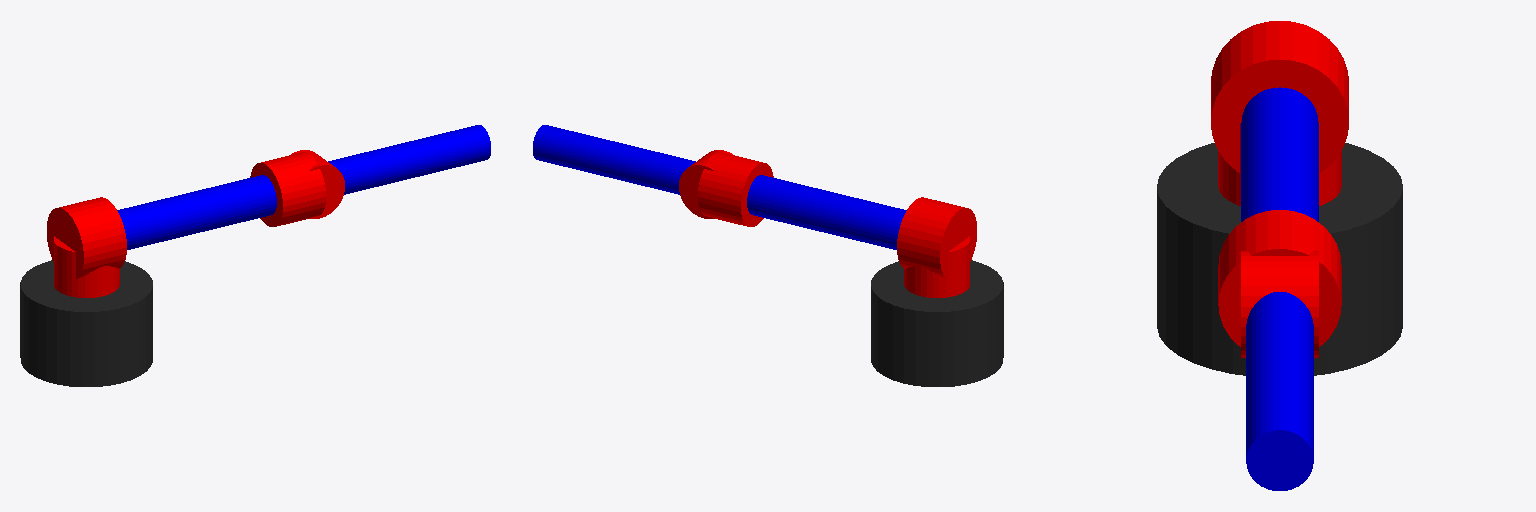
The robot description file, URDF, robot "mechelangelo_arm":
<?xml version="1.0"?>
<robot name="mechelangelo_arm">

  <!-- =========================
       MATERIALS
       ========================= -->
  <material name="red">
    <color rgba="1 0 0 1"/>
  </material>

  <material name="blue">
    <color rgba="0 0 1 1"/>
  </material>

  <material name="dark_grey">
    <color rgba="0.2 0.2 0.2 1"/>
  </material>

  <!-- =========================
       ROOT LINK
       ========================= -->
  <link name="base_footprint"/>

  <!-- =========================
       BASE
       ========================= -->
  <link name="base_link">
    <visual>
      <origin xyz="0 0 0" rpy="0 0 0"/>
      <geometry>
        <cylinder radius="0.08" length="0.10"/>
      </geometry>
      <material name="dark_grey"/>
    </visual>

    <collision>
      <origin xyz="0 0 0" rpy="0 0 0"/>
      <geometry>
        <cylinder radius="0.08" length="0.10"/>
      </geometry>
    </collision>

    <inertial>
      <origin xyz="0 0 0" rpy="0 0 0"/>
      <mass value="2.0"/>
      <inertia
        ixx="0.01" ixy="0.0" ixz="0.0"
        iyy="0.01" iyz="0.0"
        izz="0.01"/>
    </inertial>
  </link>

  <joint name="base_fixed_joint" type="fixed">
    <parent link="base_footprint"/>
    <child link="base_link"/>
    <origin xyz="0 0 0.05" rpy="0 0 0"/>
  </joint>

  <!-- =========================
       SHOULDER JOINT 1
       ========================= -->
  <link name="joint1_link">
    <visual>
      <origin xyz="0 0 0" rpy="0 0 0"/>
      <geometry>
        <cylinder radius="0.04" length="0.06"/>
      </geometry>
      <material name="red"/>
    </visual>

    <collision>
      <origin xyz="0 0 0" rpy="0 0 0"/>
      <geometry>
        <cylinder radius="0.04" length="0.06"/>
      </geometry>
    </collision>

    <inertial>
      <origin xyz="0 0 0" rpy="0 0 0"/>
      <mass value="0.30"/>
      <inertia
        ixx="0.0005" ixy="0.0" ixz="0.0"
        iyy="0.0005" iyz="0.0"
        izz="0.0003"/>
    </inertial>
  </link>

  <joint name="joint1" type="revolute">
    <parent link="base_link"/>
    <child link="joint1_link"/>
    <origin xyz="0 0 0.08" rpy="0 0 0"/>
    <axis xyz="0 0 1"/>
    <limit lower="-3.1416" upper="3.1416" effort="20" velocity="1.5"/>
    <dynamics damping="0.1"/>
  </joint>

  <!-- =========================
       SHOULDER JOINT 2
       ========================= -->
  <link name="joint2_link">
    <visual>
      <origin xyz="0 0 0" rpy="0 1.5708 0"/>
      <geometry>
        <cylinder radius="0.045" length="0.06"/>
      </geometry>
      <material name="red"/>
    </visual>

    <collision>
      <origin xyz="0 0 0" rpy="0 1.5708 0"/>
      <geometry>
        <cylinder radius="0.045" length="0.06"/>
      </geometry>
    </collision>

    <inertial>
      <origin xyz="0 0 0" rpy="0 0 0"/>
      <mass value="0.25"/>
      <inertia
        ixx="0.0004" ixy="0.0" ixz="0.0"
        iyy="0.0004" iyz="0.0"
        izz="0.0002"/>
    </inertial>
  </link>

  <joint name="joint2" type="revolute">
    <parent link="joint1_link"/>
    <child link="joint2_link"/>
    <origin xyz="0 0 0.03" rpy="0 0 0"/>
    <axis xyz="0 1 0"/>
    <limit lower="-3.1416" upper="0" effort="15" velocity="1.5"/>
    <dynamics damping="0.1"/>
  </joint>

  <!-- =========================
       LINK 1
       ========================= -->
  <link name="link1">
    <visual>
      <origin xyz="0 0 0" rpy="0 1.5708 0"/>
      <geometry>
        <cylinder radius="0.025" length="0.28"/>
      </geometry>
      <material name="blue"/>
    </visual>

    <collision>
      <origin xyz="0 0 0" rpy="0 1.5708 0"/>
      <geometry>
        <cylinder radius="0.025" length="0.28"/>
      </geometry>
    </collision>

    <inertial>
      <origin xyz="0 0 0" rpy="0 0 0"/>
      <mass value="0.35"/>
      <inertia
        ixx="0.0020" ixy="0.0" ixz="0.0"
        iyy="0.0020" iyz="0.0"
        izz="0.0002"/>
    </inertial>
  </link>

  <joint name="joint2_to_link1" type="fixed">
    <parent link="joint2_link"/>
    <child link="link1"/>
    <origin xyz="0.14 0 0" rpy="0 0 0"/>
  </joint>

  <!-- =========================
       ELBOW JOINT 3
       ========================= -->
  <link name="joint3_link">
    <visual>
      <origin xyz="0 0 0" rpy="0 1.5708 0"/>
      <geometry>
        <cylinder radius="0.04" length="0.06"/>
      </geometry>
      <material name="red"/>
    </visual>

    <collision>
      <origin xyz="0 0 0" rpy="0 1.5708 0"/>
      <geometry>
        <cylinder radius="0.04" length="0.06"/>
      </geometry>
    </collision>

    <inertial>
      <origin xyz="0 0 0" rpy="0 0 0"/>
      <mass value="0.20"/>
      <inertia
        ixx="0.0003" ixy="0.0" ixz="0.0"
        iyy="0.0003" iyz="0.0"
        izz="0.00015"/>
    </inertial>
  </link>

  <joint name="joint3" type="revolute">
    <parent link="link1"/>
    <child link="joint3_link"/>
    <origin xyz="0.14 0 0" rpy="0 0 0"/>
    <axis xyz="1 0 0"/>
    <limit lower="-3.1416" upper="3.1416" effort="10" velocity="1.5"/>
    <dynamics damping="0.1"/>
  </joint>

  <!-- =========================
       ELBOW JOINT 4
       ========================= -->
  <link name="joint4_link">
    <visual>
      <origin xyz="0 0 0" rpy="1.5708 0 0"/>
      <geometry>
        <cylinder radius="0.035" length="0.05"/>
      </geometry>
      <material name="red"/>
    </visual>

    <collision>
      <origin xyz="0 0 0" rpy="1.5708 0 0"/>
      <geometry>
        <cylinder radius="0.035" length="0.05"/>
      </geometry>
    </collision>

    <inertial>
      <origin xyz="0 0 0" rpy="0 0 0"/>
      <mass value="0.15"/>
      <inertia
        ixx="0.0002" ixy="0.0" ixz="0.0"
        iyy="0.0002" iyz="0.0"
        izz="0.0001"/>
    </inertial>
  </link>

  <joint name="joint4" type="revolute">
    <parent link="joint3_link"/>
    <child link="joint4_link"/>
    <origin xyz="0.03 0 0" rpy="0 0 0"/>
    <axis xyz="0 1 0"/>
    <limit lower="-1.57" upper="1.57" effort="8" velocity="1.5"/>
    <dynamics damping="0.05"/>
  </joint>

  <!-- =========================
       LINK 2
       ========================= -->
  <link name="link2">
    <visual>
      <origin xyz="0 0 0" rpy="0 1.5708 0"/>
      <geometry>
        <cylinder radius="0.022" length="0.24"/>
      </geometry>
      <material name="blue"/>
    </visual>

    <collision>
      <origin xyz="0 0 0" rpy="0 1.5708 0"/>
      <geometry>
        <cylinder radius="0.022" length="0.24"/>
      </geometry>
    </collision>

    <inertial>
      <origin xyz="0 0 0" rpy="0 0 0"/>
      <mass value="0.25"/>
      <inertia
        ixx="0.0010" ixy="0.0" ixz="0.0"
        iyy="0.0010" iyz="0.0"
        izz="0.0001"/>
    </inertial>
  </link>

  <joint name="joint4_to_link2" type="fixed">
    <parent link="joint4_link"/>
    <child link="link2"/>
    <origin xyz="0.12 0 0" rpy="0 0 0"/>
  </joint>

  <!-- =========================
       GAZEBO: DISABLE GRAVITY
       ========================= -->
  <gazebo reference="joint1_link">
    <gravity>false</gravity>
  </gazebo>

  <gazebo reference="joint2_link">
    <gravity>false</gravity>
  </gazebo>

  <gazebo reference="link1">
    <gravity>false</gravity>
  </gazebo>

  <gazebo reference="joint3_link">
    <gravity>false</gravity>
  </gazebo>

  <gazebo reference="joint4_link">
    <gravity>false</gravity>
  </gazebo>

  <gazebo reference="link2">
    <gravity>false</gravity>
  </gazebo>

</robot>

--- What the picture shows (computed from the rendered views, not written in the file) ---
Views: 3 orthographic renders of the robot side by side, from view 1: azimuth 30°, elevation 25°; view 2: azimuth 150°, elevation 25°; view 3: azimuth 270°, elevation 25°.
Model mechelangelo_arm with 8 links and 7 joints (4 revolute, 3 fixed), rooted at base_footprint, posed all joints at 0.
Links seen in each view (by area): view 1: base_link, link1, link2, joint2_link, joint3_link, joint1_link, joint4_link; view 2: base_link, link1, link2, joint2_link, joint3_link, joint1_link, joint4_link; view 3: base_link, link2, joint2_link, link1, joint3_link, joint4_link, joint1_link.
Link boxes in pixels (x1,y1,x2,y2): base_link: (20, 260, 152, 386); link1: (117, 175, 276, 249); link2: (328, 125, 490, 194); joint2_link: (47, 197, 126, 278); joint3_link: (250, 152, 325, 226); joint1_link: (54, 236, 119, 297); joint4_link: (291, 150, 344, 218); base_link: (871, 260, 1003, 386); link1: (747, 175, 906, 249); link2: (533, 125, 695, 194); joint2_link: (897, 197, 976, 278); joint3_link: (698, 152, 773, 226); joint1_link: (904, 236, 969, 297); joint4_link: (679, 150, 732, 218); base_link: (1157, 143, 1402, 375); link2: (1246, 292, 1313, 490); joint2_link: (1211, 21, 1348, 172); link1: (1241, 87, 1318, 221); joint3_link: (1218, 210, 1341, 346); joint4_link: (1241, 251, 1318, 357); joint1_link: (1218, 122, 1341, 205).
Size in the robot's own frame: 0.63 by 0.16 by 0.205 metres.
Geometry: primitives only (box / cylinder / sphere), no mesh files.
